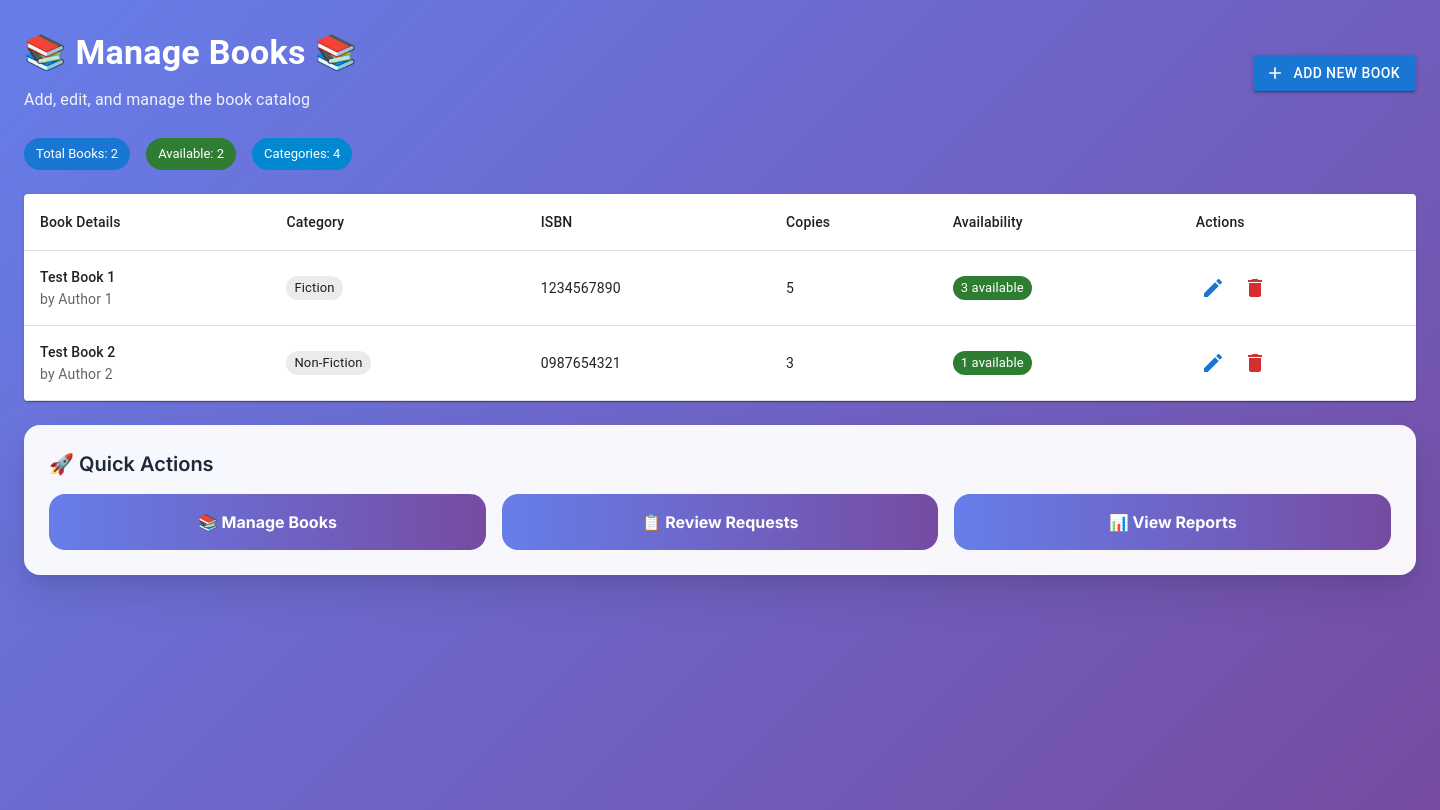
Test: ManageBooks Component › opens delete confirmation dialog
Expected: the heading "Test Book 1" is shown, [40,269,115,285]
Click delete button
Click the button named "delete book" in the row of "Test Book 1": click(1255, 288) [1238,271,1272,305]
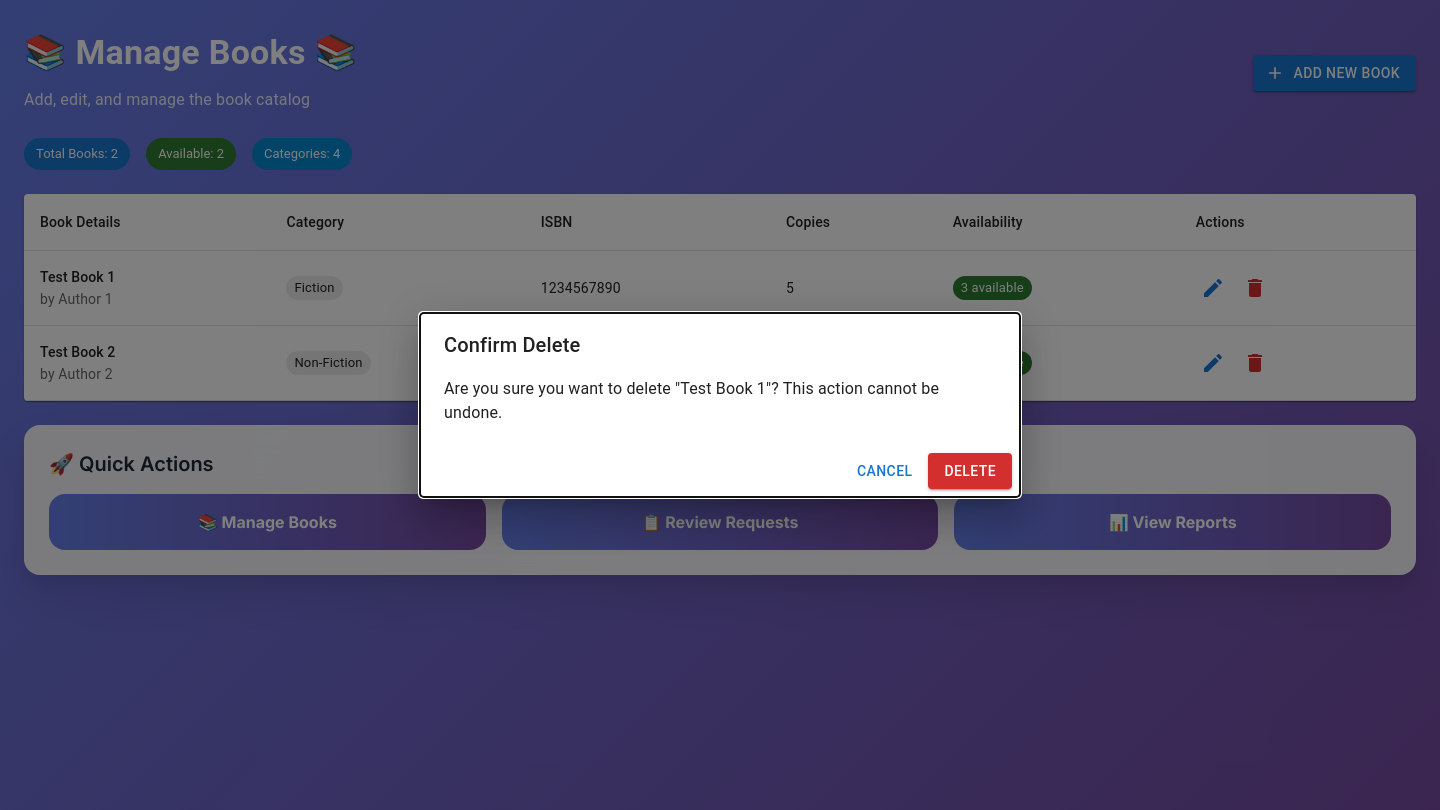
Expected: the heading "Confirm Delete" is shown, [444,333,580,357]
Expected: the text "Are you sure you want to delete" is shown, [444,379,680,398]
